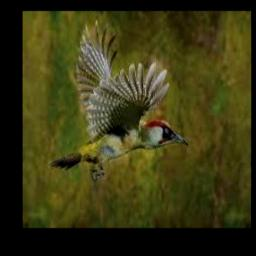Woodpecker: (48, 19, 189, 181)
